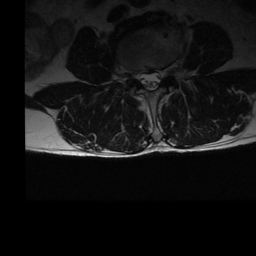CCS_normal: (146, 65, 154, 94)
LFS_normal: (161, 63, 168, 83)
LLS_normal: (154, 66, 161, 88)
RFS_normal: (130, 64, 139, 86)
RLS_normal: (139, 65, 146, 88)
